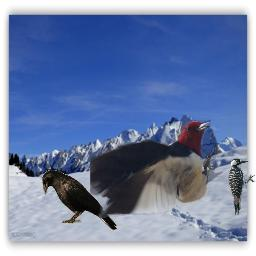Crow: (42, 170, 118, 230)
Woodpecker: (90, 115, 223, 218), (227, 158, 256, 215)
